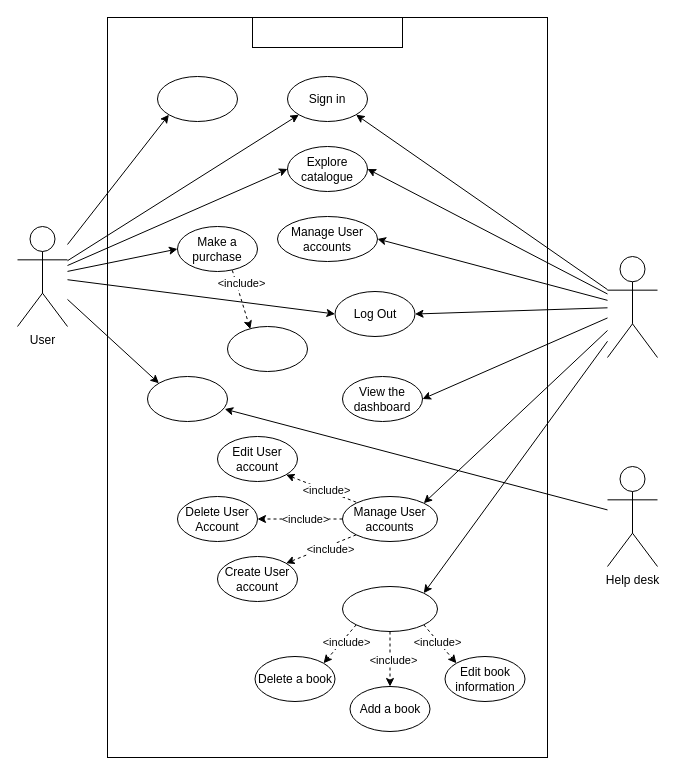
The diagram is 676 pixels wide and 775 high, and some of its shapes have lost their labels. Each missing label, with the centre of its shape:
Admin: pixel 632 307
Book Shop Management: pixel 327 32
Contact help desk: pixel 187 399
Manage book assortment: pixel 390 609
Recieve a bill: pixel 267 349
Sign up: pixel 197 99
